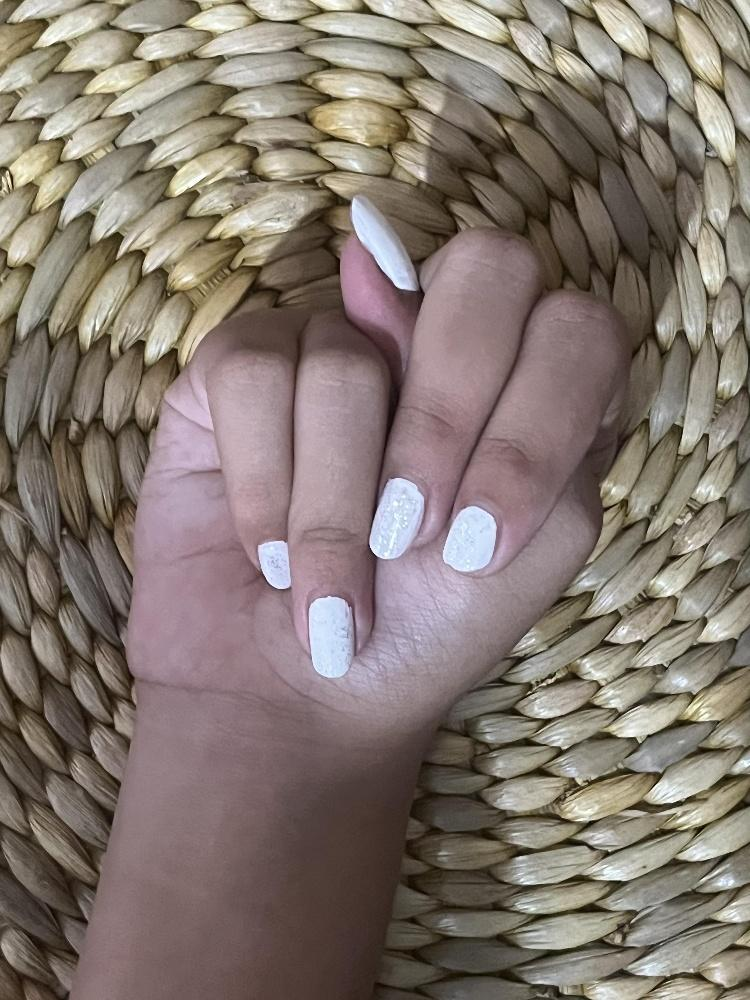n: (123, 184, 629, 723)
